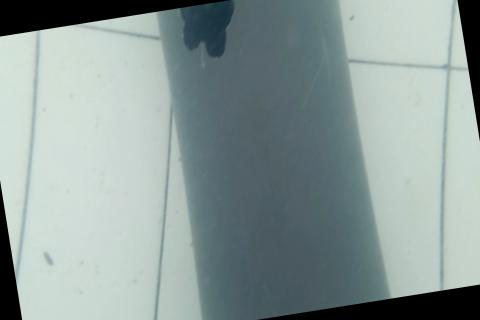kebocoran: (176, 0, 246, 62)
